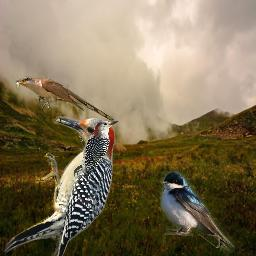Cuckoo: (13, 76, 114, 121)
Swallow: (160, 171, 235, 256)
Woodpecker: (0, 111, 131, 256), (74, 120, 119, 178)
